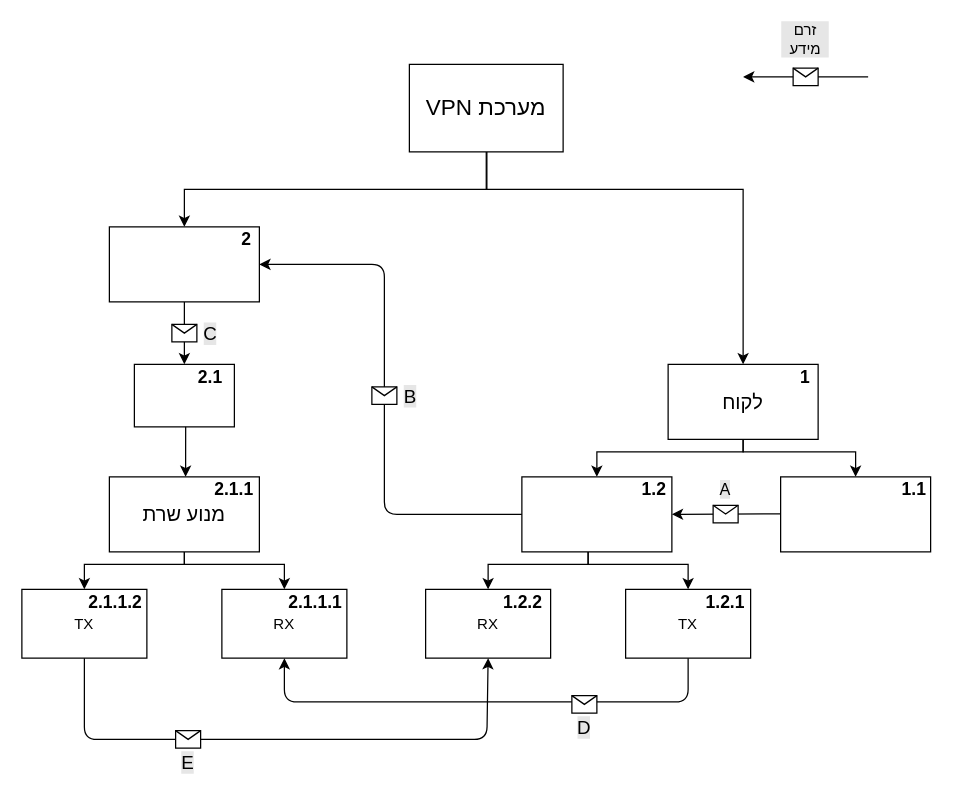
Image size: 961x796. Some labels were removed from this diagram. The shapes that lost their labels are listed below. From the top down, each one's box as (x1, y1, x2, y2) in pixels, then its label:
(108, 226, 259, 302): קבלת משתמשים
(133, 363, 234, 427): שרת
(521, 476, 672, 552): מנוע לקוח
(779, 476, 931, 552): GUI
